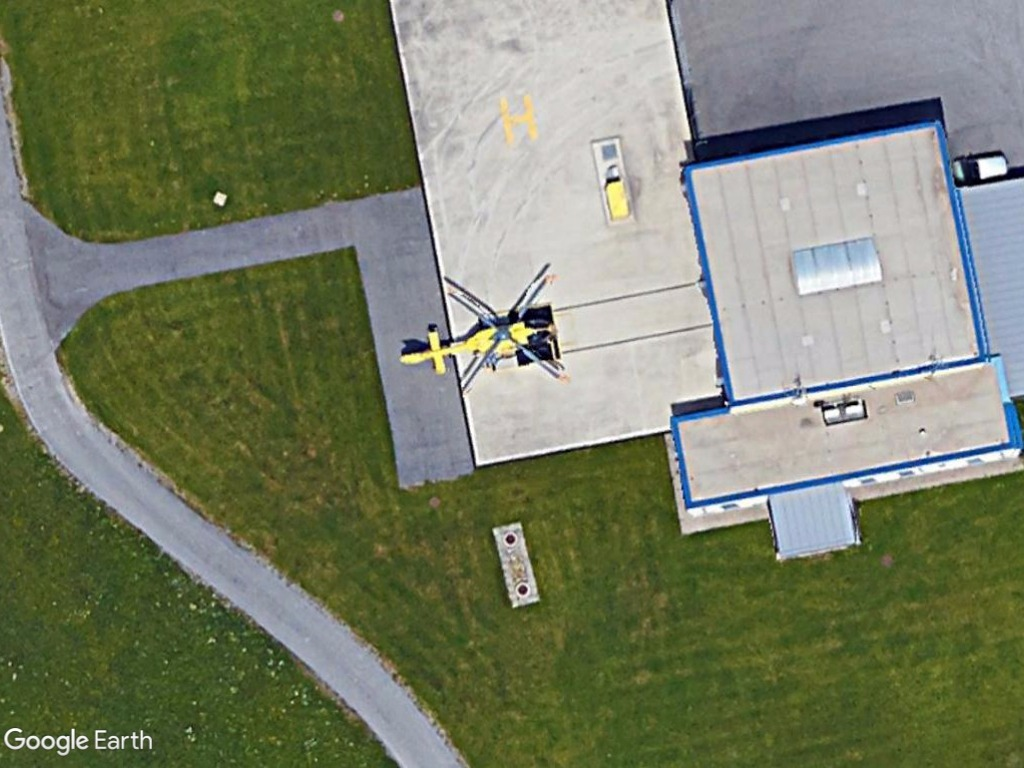helicopter: (391, 262, 571, 404)
